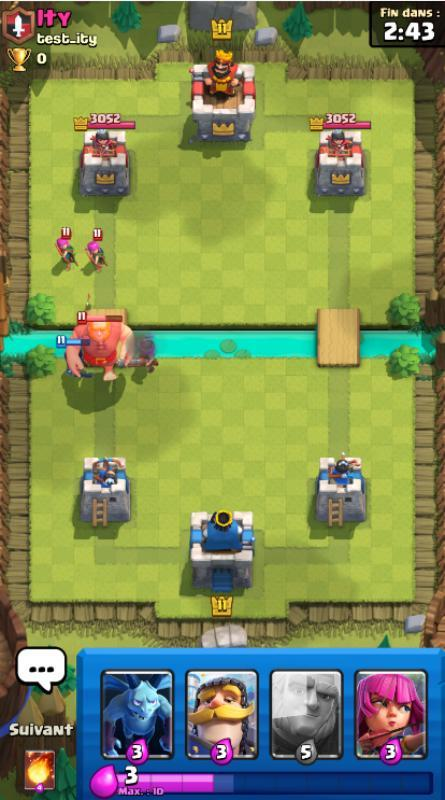archere: (54, 225, 80, 272), (83, 227, 109, 274)
geant: (66, 311, 134, 382)
mini_PEKKA: (56, 335, 94, 379)
mousquetaire: (117, 334, 161, 375)
